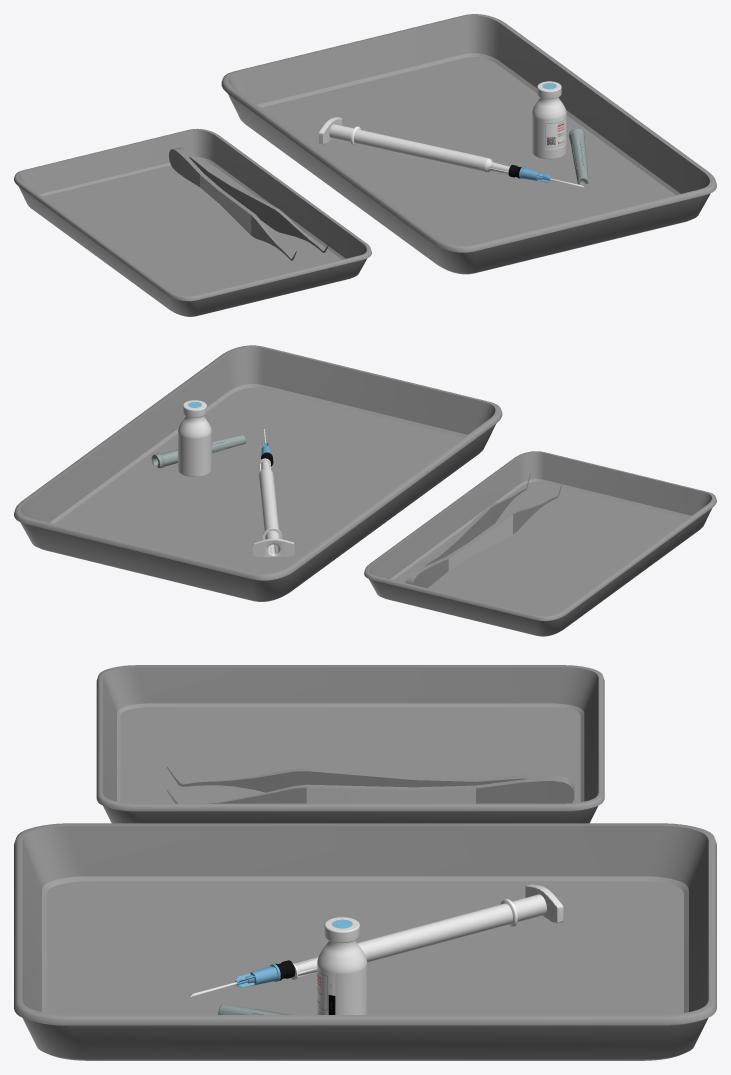
The model's file is Tray_tools.fbx.
3 renders of one model, top to bottom at view 1: azimuth 30°, elevation 25°; view 2: azimuth 150°, elevation 25°; view 3: azimuth 270°, elevation 25°, orthographic. The views are drawn at different scales.
Visible parts, largest first — view 1: BandejaInstrumentos.001, BandejaInstrumentos, PinzaBiangulada, D7014BOT, Bottle, D7014HOO, Label; view 2: BandejaInstrumentos.001, BandejaInstrumentos, PinzaBiangulada, Bottle, D7014BOT, D7014HOO; view 3: BandejaInstrumentos.001, BandejaInstrumentos, PinzaBiangulada, D7014BOT, Bottle, Label, Lid Metal, D7014NE2.
Part boxes in pixels (x1,y1,x2,y2): BandejaInstrumentos.001: (221,14,716,274); BandejaInstrumentos: (14,128,371,316); PinzaBiangulada: (169,147,329,260); D7014BOT: (319,117,509,174); Bottle: (532,97,566,159); D7014HOO: (568,128,588,184); Label: (544,114,566,149); BandejaInstrumentos.001: (14,345,502,601); BandejaInstrumentos: (364,451,716,636); PinzaBiangulada: (405,473,562,588); Bottle: (178,416,211,476); D7014BOT: (253,460,294,556); D7014HOO: (151,434,246,468); BandejaInstrumentos.001: (14,823,716,1060); BandejaInstrumentos: (96,665,604,823); PinzaBiangulada: (166,766,574,803); D7014BOT: (296,884,563,975); Bottle: (317,940,367,1014); Label: (317,965,335,1014); Lid Metal: (324,917,359,943); D7014NE2: (235,964,280,987).
Bounding box in the file's own units: 4155 × 527 × 3342.
